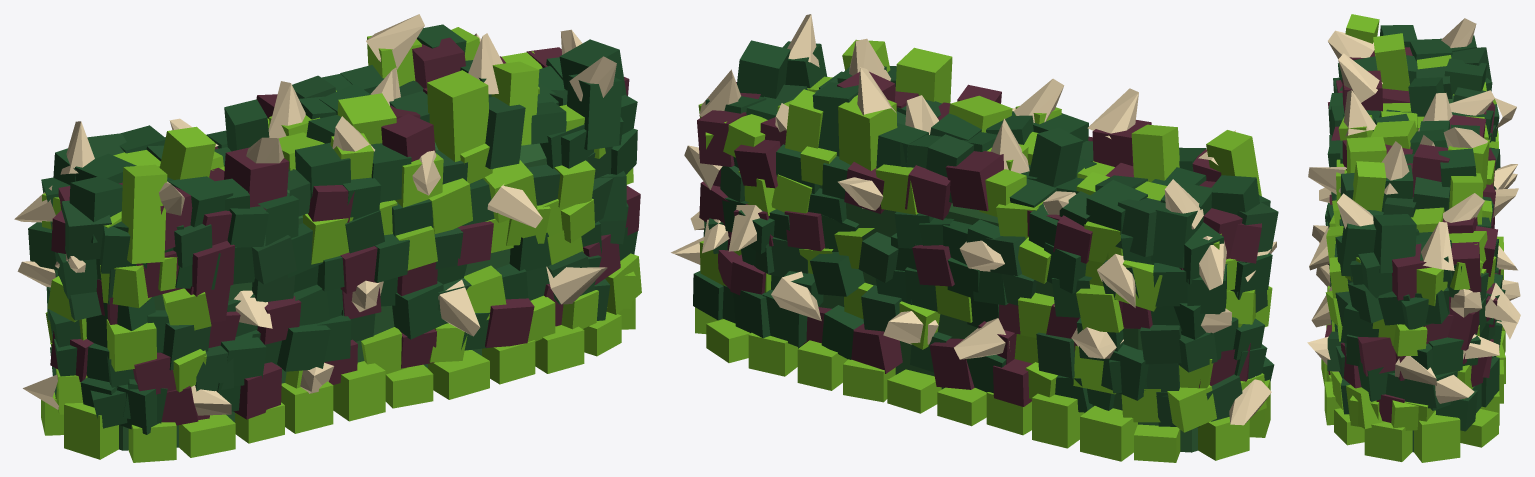
The model's file is Thornwood_BrambleHedge.glb.
3 renders of one model, left to right at view 1: azimuth 30°, elevation 25°; view 2: azimuth 150°, elevation 25°; view 3: azimuth 270°, elevation 25°, orthographic. The views are drawn at different scales.
Visible parts, largest first — view 1: leaf_cubes_green, leaf_cubes_lime, bramble_cubes, grass_base_cubes, leaf_cubes_dark, thorns, leaf_core; view 2: leaf_cubes_green, leaf_cubes_lime, bramble_cubes, thorns, grass_base_cubes, leaf_cubes_dark, leaf_core; view 3: leaf_cubes_green, leaf_cubes_lime, thorns, bramble_cubes, grass_base_cubes, leaf_cubes_dark.
Part boxes in pixels (x1,y1,x2,y2): leaf_cubes_green: (28, 24, 639, 434); leaf_cubes_lime: (42, 27, 641, 414); bramble_cubes: (50, 37, 640, 425); grass_base_cubes: (41, 298, 635, 462); leaf_cubes_dark: (50, 60, 628, 396); thorns: (14, 14, 616, 415); leaf_core: (119, 105, 559, 450); leaf_cubes_green: (693, 40, 1274, 412); leaf_cubes_lime: (698, 39, 1272, 432); bramble_cubes: (697, 71, 1261, 406); thorns: (671, 14, 1276, 425); grass_base_cubes: (695, 307, 1270, 462); leaf_cubes_dark: (703, 66, 1278, 427); leaf_core: (798, 185, 1197, 452); leaf_cubes_green: (1325, 25, 1505, 431); leaf_cubes_lime: (1325, 14, 1498, 431); thorns: (1307, 18, 1520, 403); bramble_cubes: (1325, 47, 1500, 422); grass_base_cubes: (1321, 236, 1505, 462); leaf_cubes_dark: (1327, 47, 1500, 408).
Bounding box in the file's own units: 2.03 × 1.04 × 0.77.
